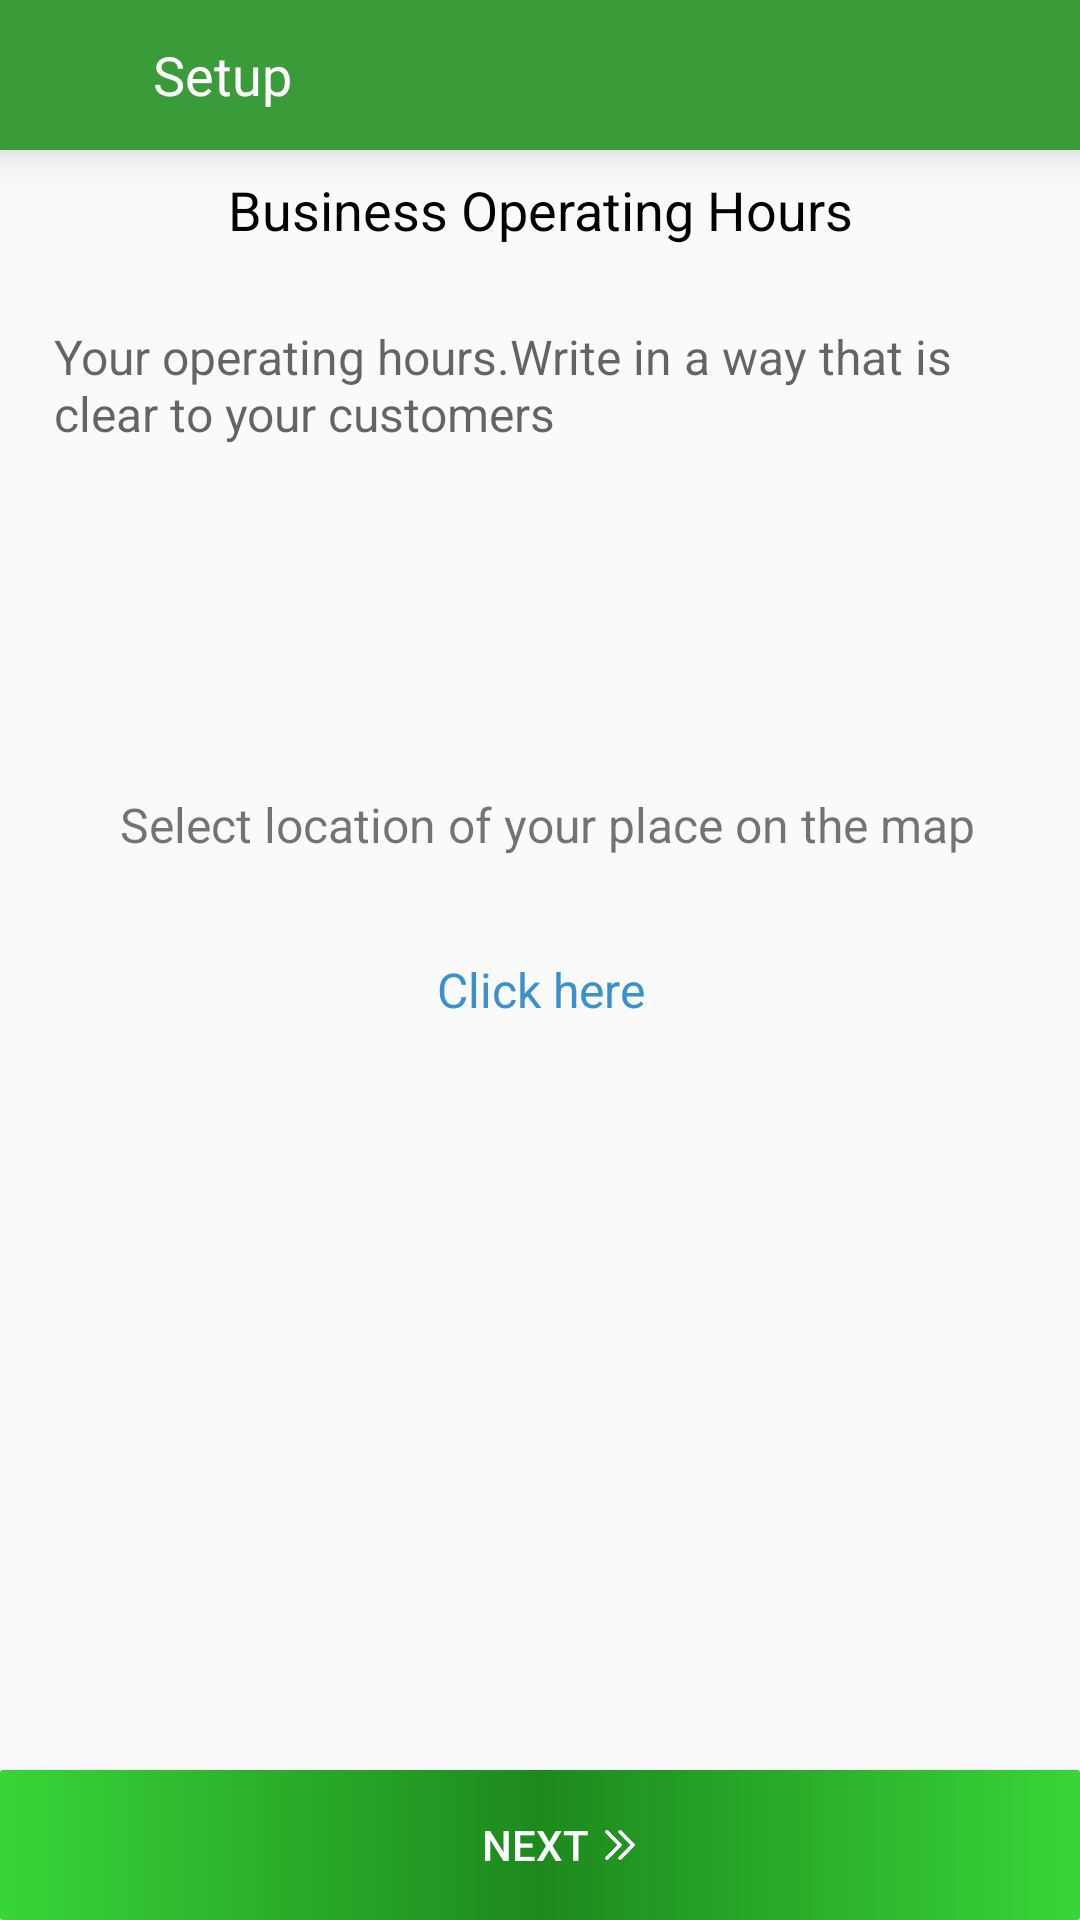

Where to tap for icons on this 1080*1920 app screen, as [x,y]:
arrow: [620,1845]
